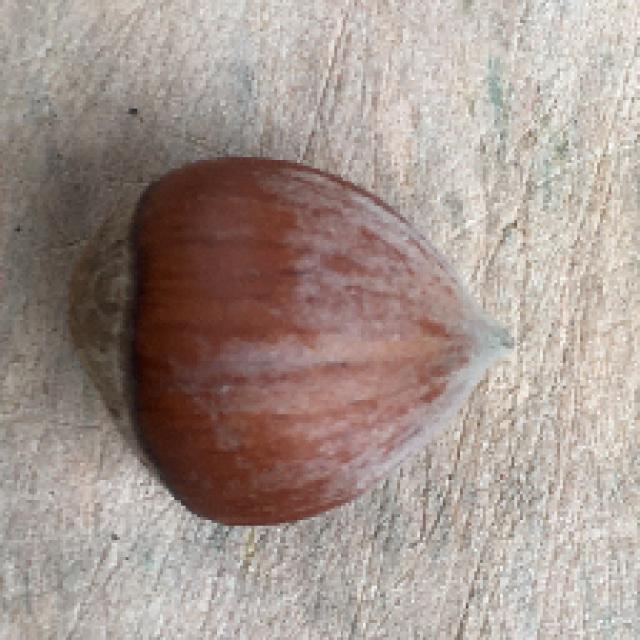qualityHazelnut: (64, 151, 518, 532)
